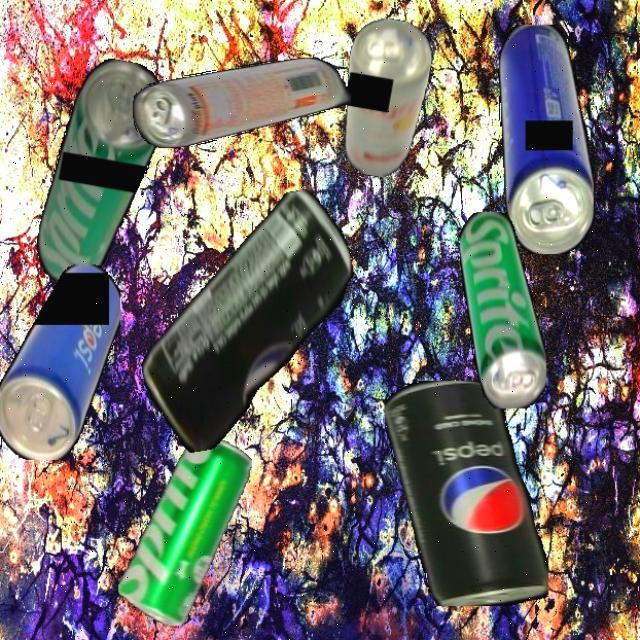debris: (117, 184, 379, 458), (385, 380, 548, 606), (32, 52, 171, 294), (117, 437, 252, 626), (0, 263, 120, 459), (498, 24, 594, 254), (132, 57, 351, 148), (330, 13, 438, 182), (459, 211, 546, 408)
